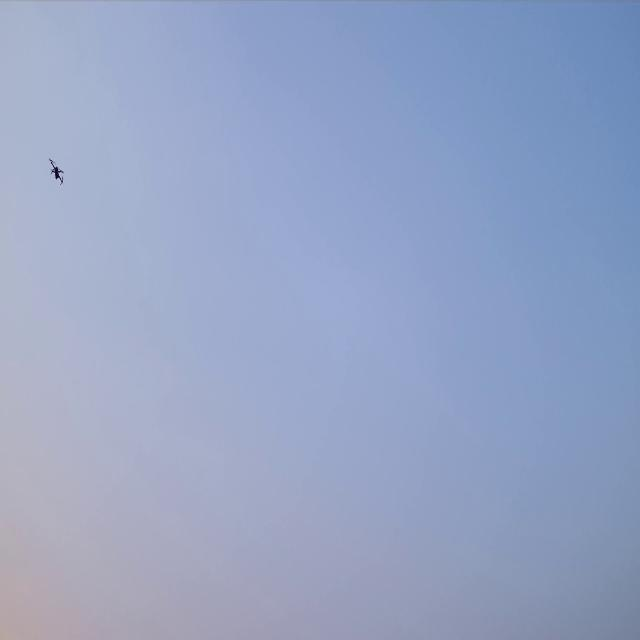UAV: (48, 156, 64, 187)
